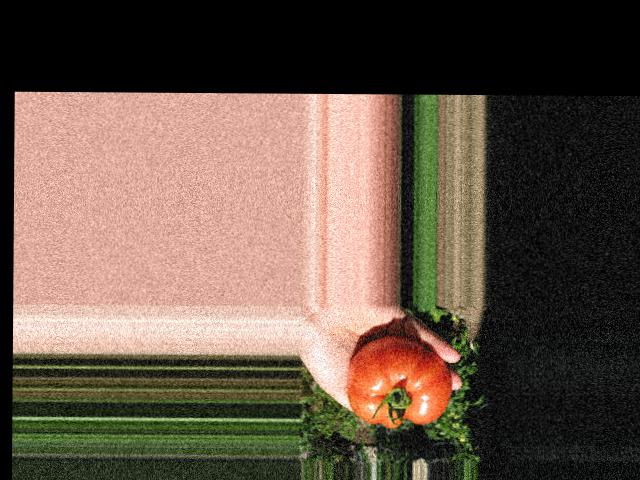tomato: (347, 336, 452, 428)
